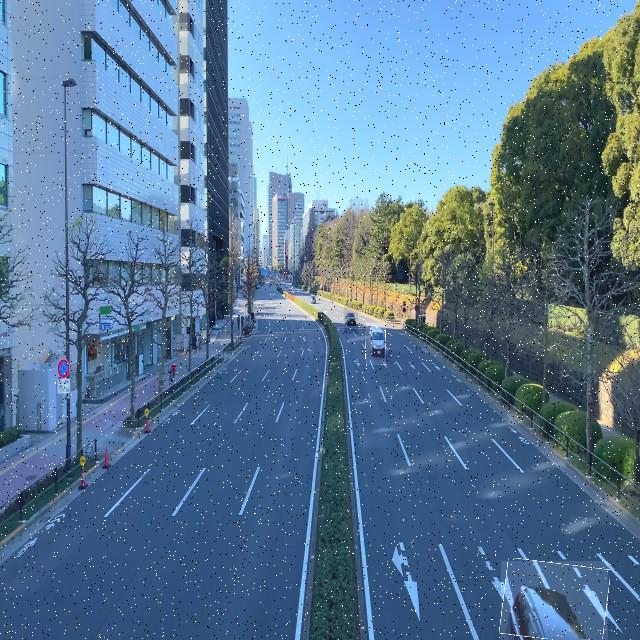Car: (501, 561, 608, 640), (366, 323, 386, 365), (344, 304, 358, 334)
